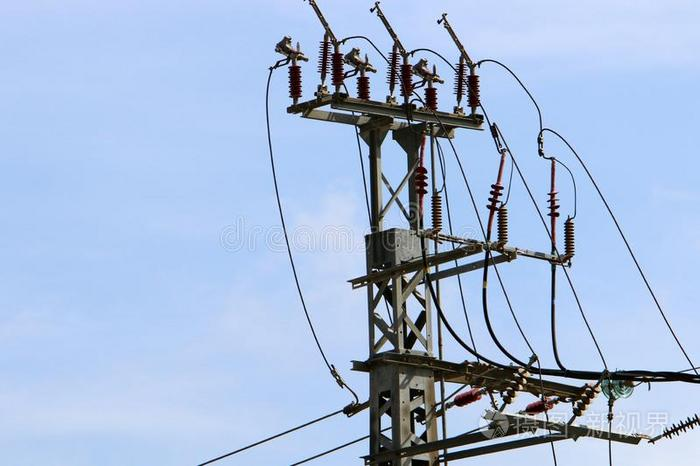insulator: (501, 367, 530, 403), (572, 386, 600, 416), (412, 163, 430, 198), (488, 181, 506, 210), (546, 189, 562, 221)
